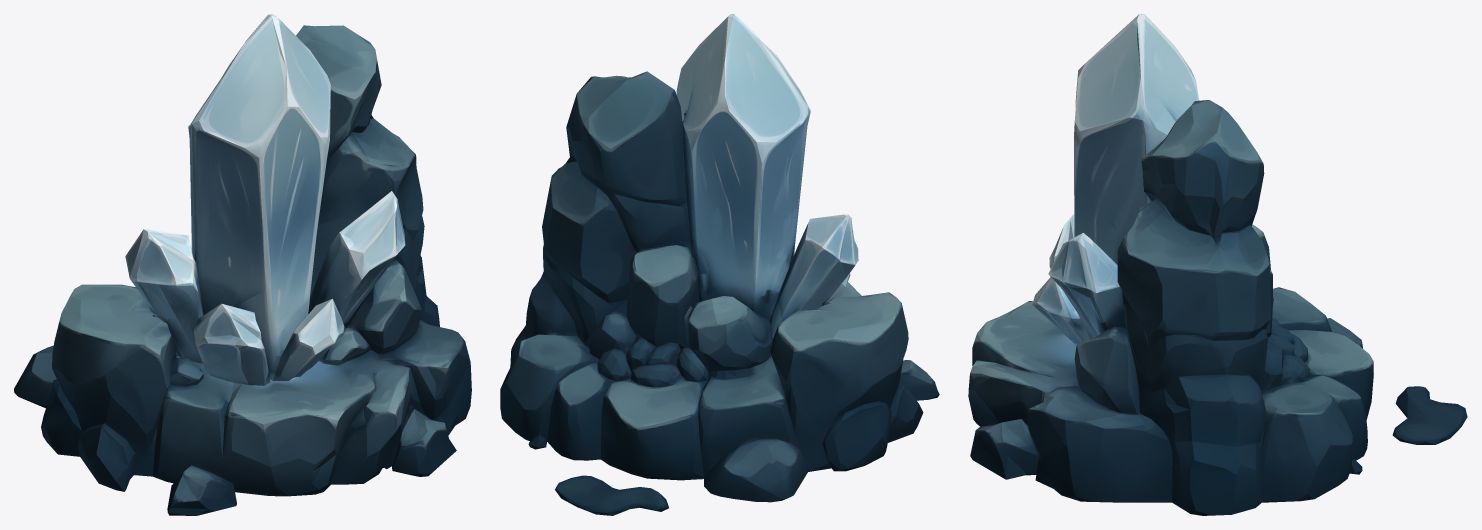
The model's file is SM_Ore07.fbx.
3 views of the same model, side by side, from view 1: azimuth 30°, elevation 25°; view 2: azimuth 150°, elevation 25°; view 3: azimuth 270°, elevation 25° (orthographic). The views are drawn at different scales.
Visible parts, largest first — view 1: Ore07; view 2: Ore07; view 3: Ore07.
Boxes of the visible parts, <box> form: Ore07: <box>14,14,471,515</box>; Ore07: <box>500,14,939,515</box>; Ore07: <box>968,14,1467,515</box>.
Size of the model in its own units: 110 by 111 by 122.
Materials: 1 (1 with a texture image).
